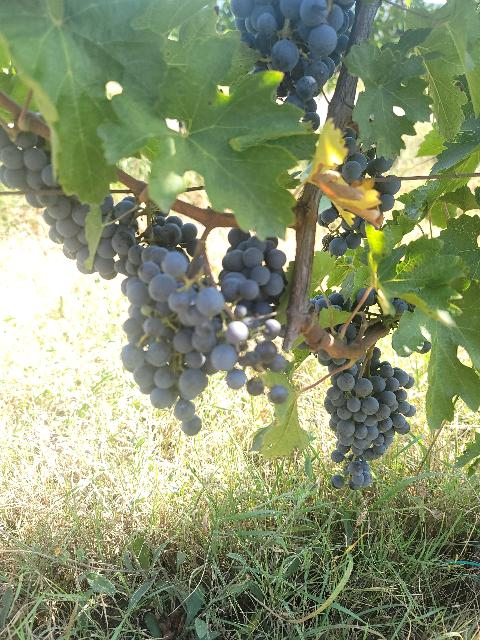grapes: (121, 245, 249, 435), (94, 198, 198, 408), (0, 129, 116, 279), (230, 0, 355, 130), (324, 349, 416, 490), (219, 229, 288, 371)
